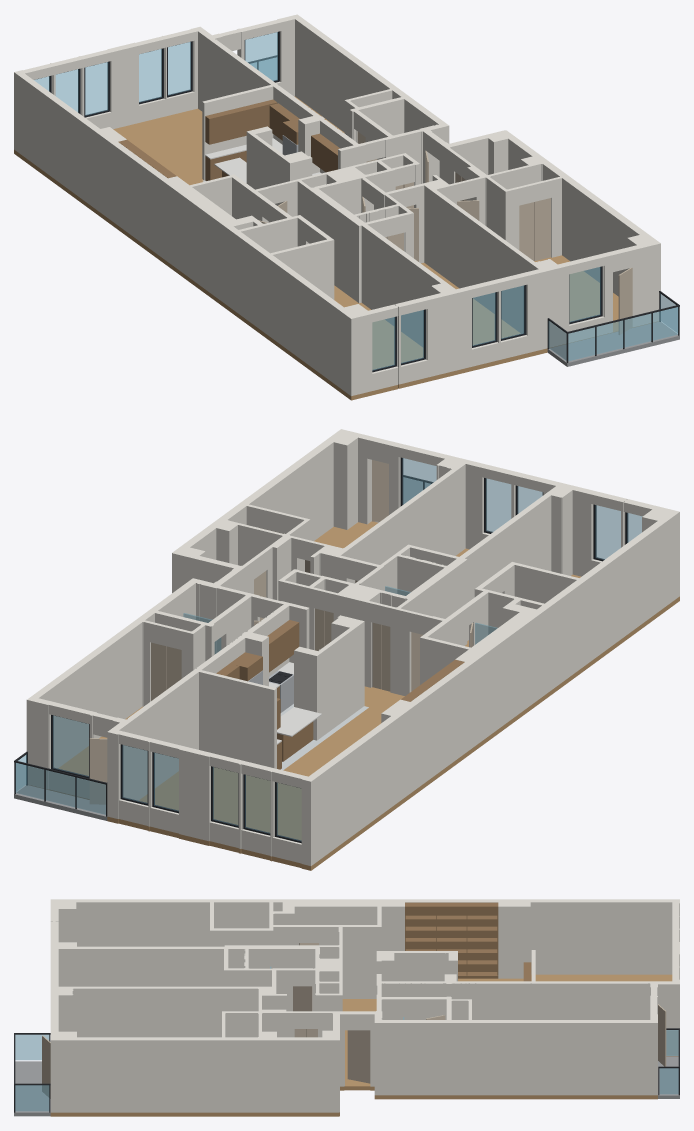
Rendered from apartment_exact.obj.
The picture shows the model from 3 angles, top to bottom: view 1: azimuth 30°, elevation 25°; view 2: azimuth 150°, elevation 25°; view 3: azimuth 270°, elevation 25°; orthographic projection. The views are drawn at different scales.
Parts seen in each view (by area): view 1: Walls_Main, Windows_Glass, Floor_Wood, Fixtures_Cabinets, Balcony_Glass, Doors, Floor_Balcony, Window_Frames, Balcony_Railings, Fixtures_Counters; view 2: Walls_Main, Windows_Glass, Floor_Wood, Doors, Balcony_Glass, Fixtures_Cabinets, Window_Frames, Floor_Balcony, Fixtures_Counters, Balcony_Railings, Floor_Tile; view 3: Walls_Main, Fixtures_DiningShelf, Floor_Wood, Doors, Balcony_Glass, Floor_Balcony, Balcony_Railings.
Part boxes in pixels (left/top/right/bottom): Walls_Main: left=14, top=14, right=660, bottom=396; Windows_Glass: left=34, top=32, right=600, bottom=370; Floor_Wood: left=14, top=96, right=658, bottom=400; Fixtures_Cabinets: left=205, top=99, right=339, bottom=180; Balcony_Glass: left=250, top=57, right=678, bottom=360; Doors: left=258, top=132, right=632, bottom=334; Floor_Balcony: left=547, top=321, right=679, bottom=366; Window_Frames: left=37, top=31, right=602, bottom=372; Balcony_Railings: left=248, top=55, right=679, bottom=362; Fixtures_Counters: left=205, top=138, right=321, bottom=182; Walls_Main: left=26, top=429, right=679, bottom=865; Windows_Glass: left=53, top=458, right=642, bottom=840; Floor_Wood: left=29, top=521, right=679, bottom=870; Doors: left=89, top=460, right=473, bottom=804; Balcony_Glass: left=15, top=477, right=430, bottom=814; Fixtures_Cabinets: left=216, top=620, right=313, bottom=769; Window_Frames: left=51, top=457, right=628, bottom=843; Floor_Balcony: left=14, top=521, right=379, bottom=820; Fixtures_Counters: left=269, top=662, right=321, bottom=744; Balcony_Railings: left=14, top=475, right=433, bottom=816; Floor_Tile: left=280, top=704, right=368, bottom=770; Walls_Main: left=50, top=899, right=679, bottom=1112; Fixtures_DiningShelf: left=405, top=902, right=498, bottom=978; Floor_Wood: left=50, top=974, right=678, bottom=1116; Doors: left=42, top=943, right=666, bottom=1098; Balcony_Glass: left=15, top=1030, right=678, bottom=1111; Floor_Balcony: left=14, top=1056, right=679, bottom=1116; Balcony_Railings: left=14, top=1028, right=679, bottom=1112.
Size of the model in its own units: 11.51 by 2.9 by 22.97.
